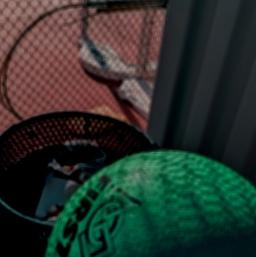algae: (38, 142, 256, 257)
